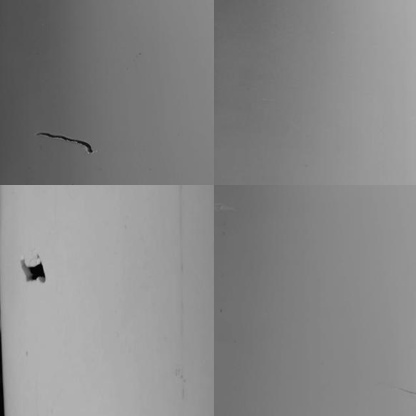fengxi: (40, 129, 99, 156)
kongdong: (14, 258, 52, 285)
